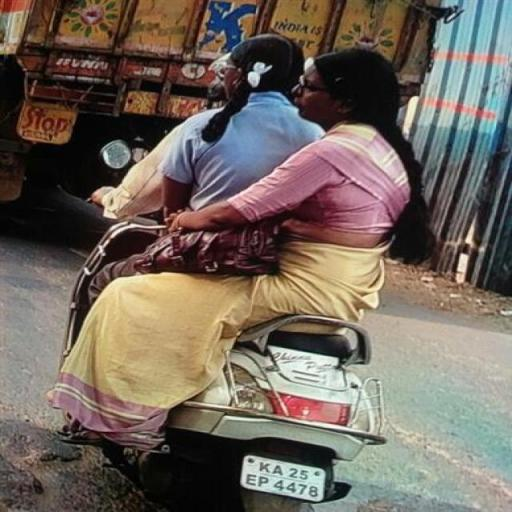tripple riding: (59, 30, 436, 302)
